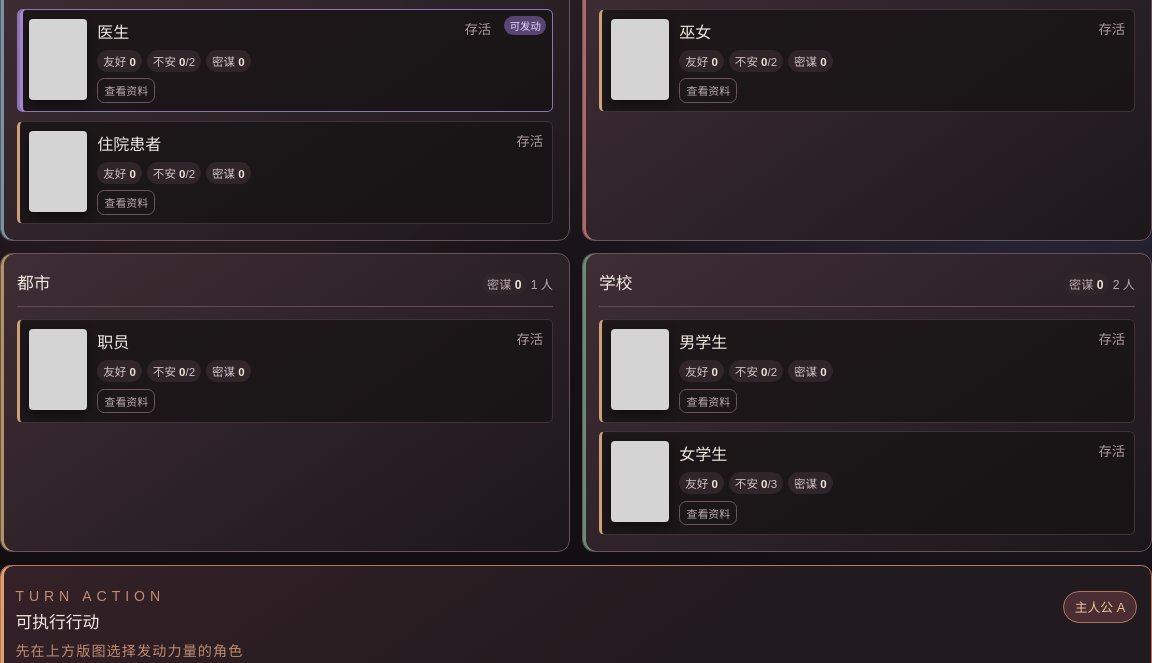
it: local game components › selects a character before presenting that character's ability actions
This screenshot has width=1152, height=663.
Expected: the button "医生 · 同区域另一名角色不安 -1 → 男学生" is not shown
Click the button with class "ability-source" at (58, 59), box left=17, top=9, right=553, bottom=112
(page scrolled)
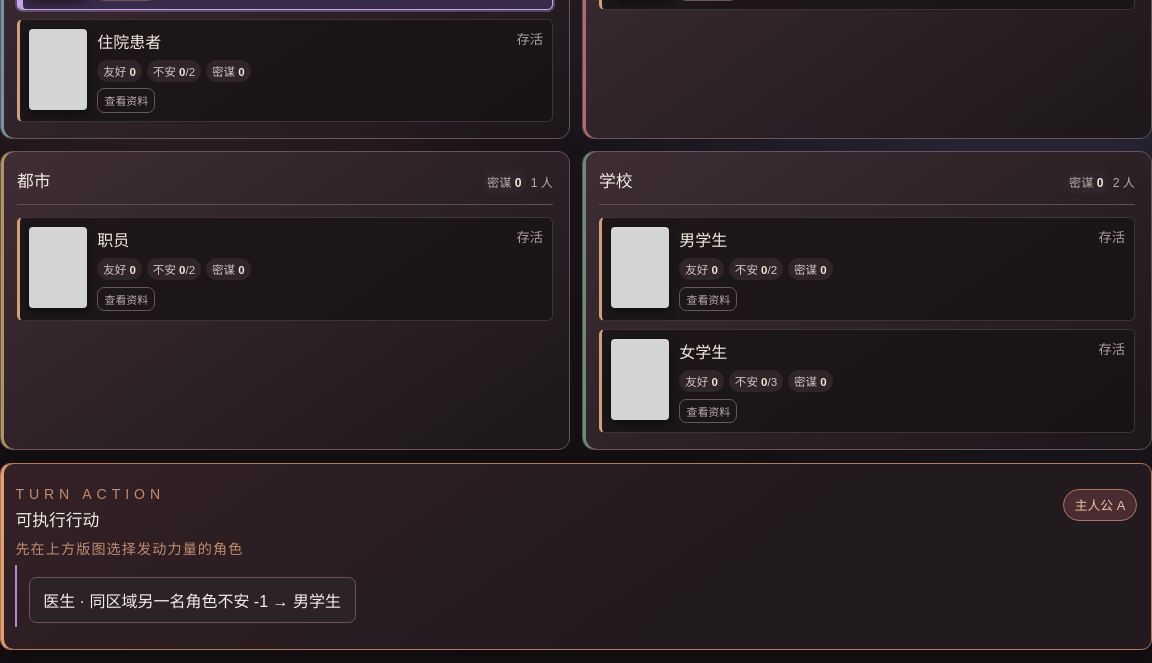
Expected: the button "医生 · 同区域另一名角色不安 -1 → 男学生" is shown, left=29, top=577, right=356, bottom=623
